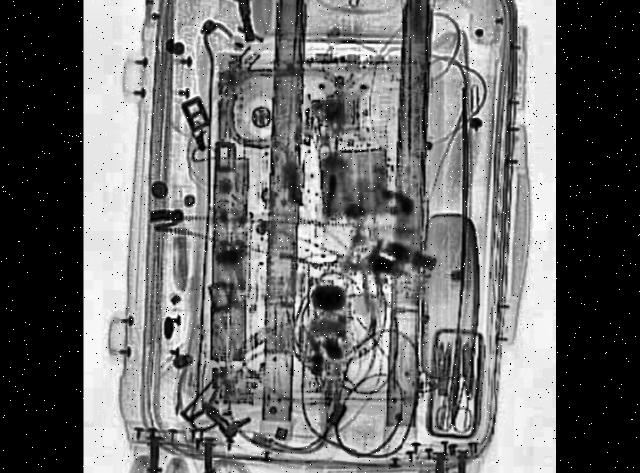Scissors: (436, 328, 475, 432)
